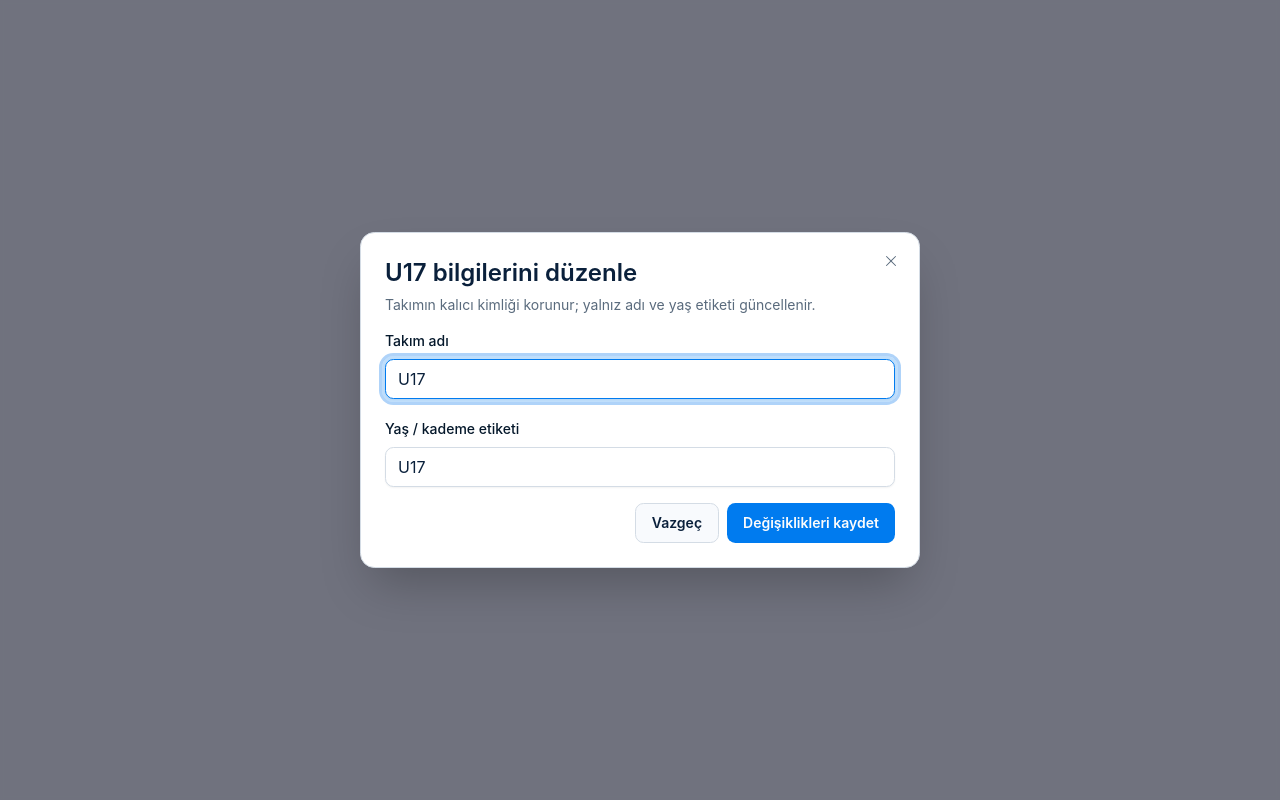
Scenario: team lifecycle dialogs › prefills edit fields and keeps the dialog open on API failure
The image size is (1280, 800).
Check: the field labelled "Takım adı" holds "U17", box [385,359,895,399]
Step 1. Click the button "Değişiklikleri kaydet" → click(811, 523), box [727,503,895,543]
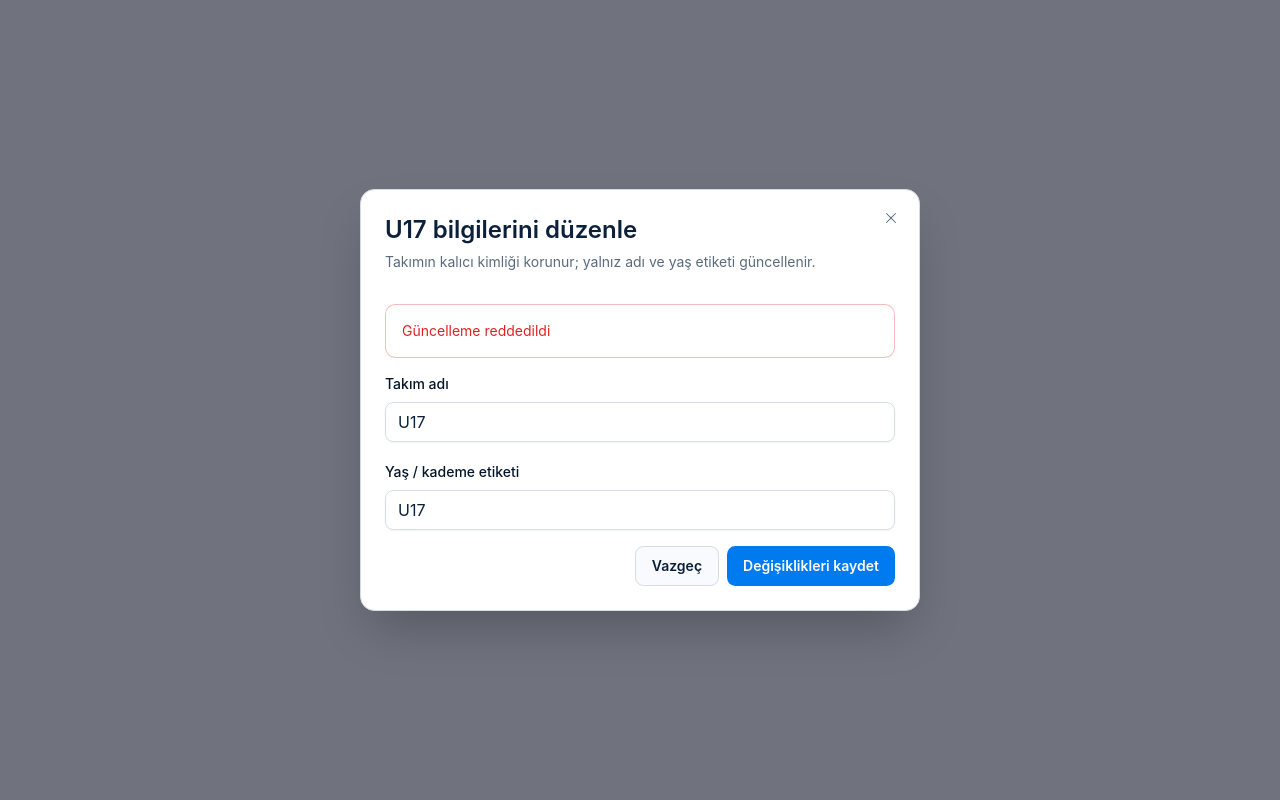
Check: the text "Güncelleme reddedildi" is shown, box [402,322,550,339]
